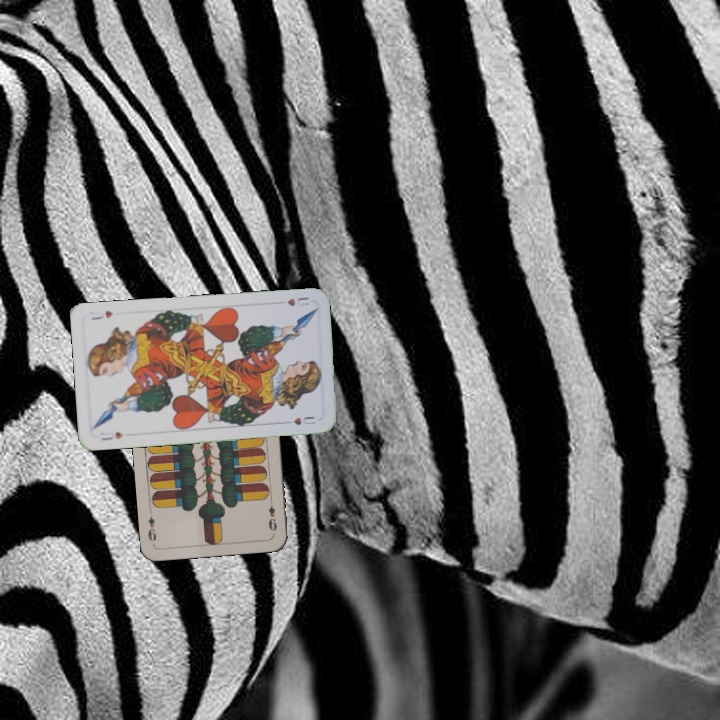E9: (264, 495, 279, 535)
HU: (283, 293, 312, 309), (97, 428, 126, 443)
